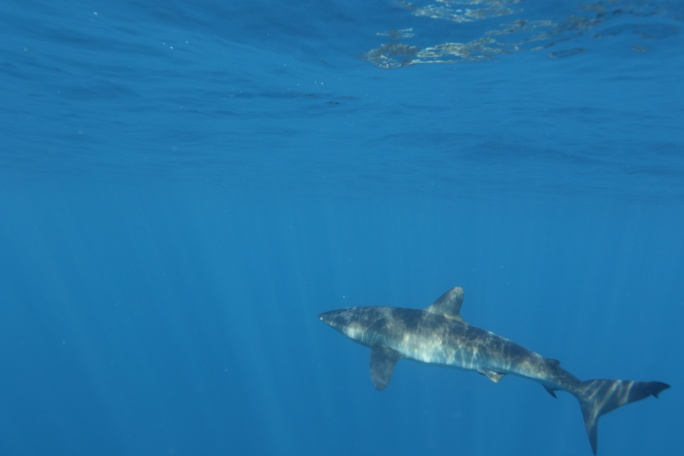Sedoso: (308, 278, 675, 456)
